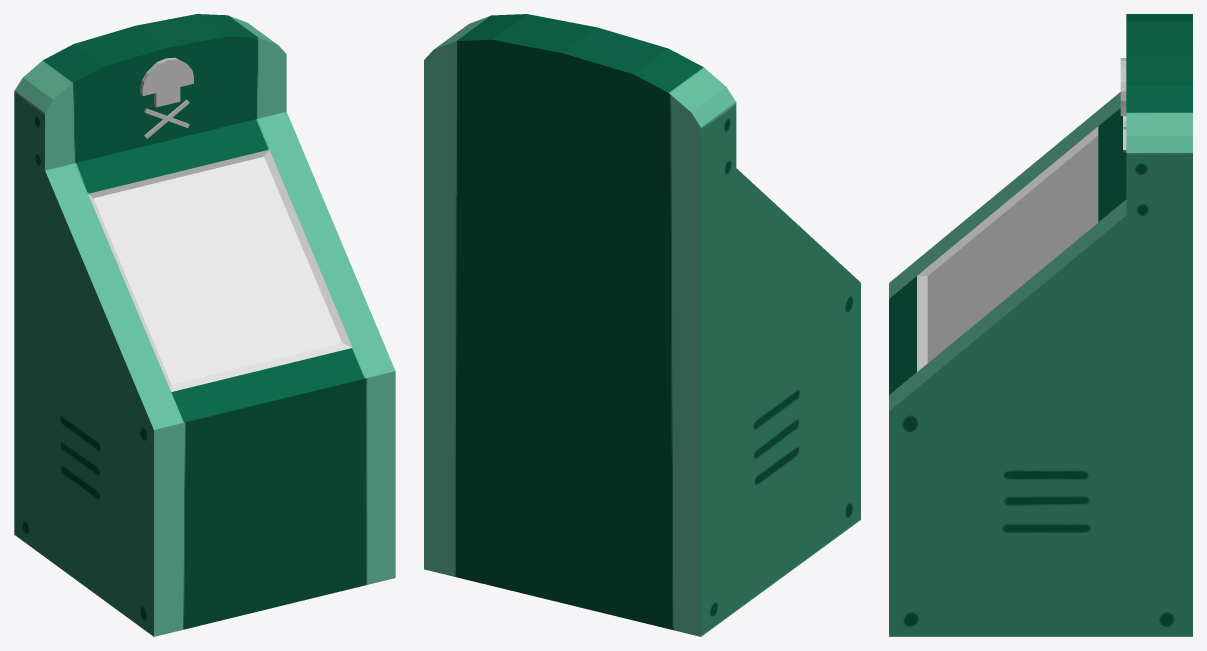
File: Toxic.fbx
3 renders of one model, left to right at view 1: azimuth 30°, elevation 25°; view 2: azimuth 150°, elevation 25°; view 3: azimuth 270°, elevation 25°, orthographic. The views are drawn at different scales.
Parts seen in each view (by area): view 1: ToxicMachine_Body, ToxicMachine_Screen, icon_skeleton; view 2: ToxicMachine_Body; view 3: ToxicMachine_Body, ToxicMachine_Screen, icon_skeleton.
Part boxes in pixels (bbox=[...]): ToxicMachine_Body: bbox=[14, 14, 395, 636]; ToxicMachine_Screen: bbox=[88, 149, 352, 391]; icon_skeleton: bbox=[140, 57, 193, 138]; ToxicMachine_Body: bbox=[424, 14, 860, 636]; ToxicMachine_Body: bbox=[889, 14, 1192, 636]; ToxicMachine_Screen: bbox=[917, 126, 1098, 371]; icon_skeleton: bbox=[1120, 58, 1126, 152].
Bounding box in the file's own units: 100 × 190 × 100.
